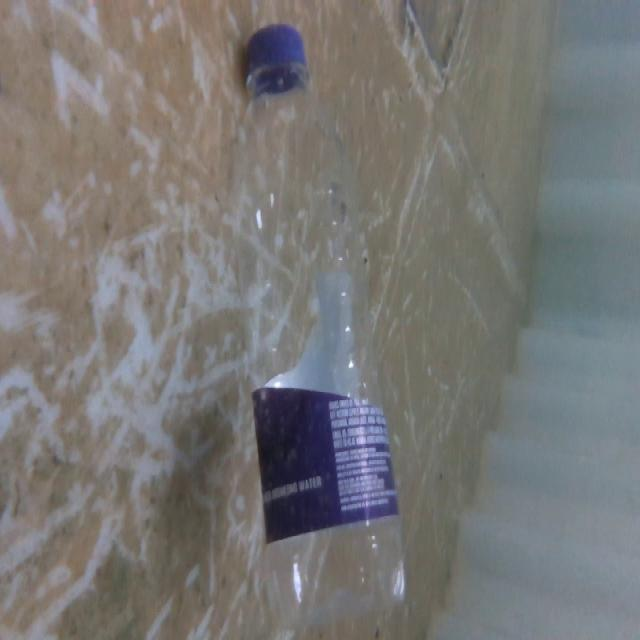plastic bottle: (228, 17, 418, 637)
